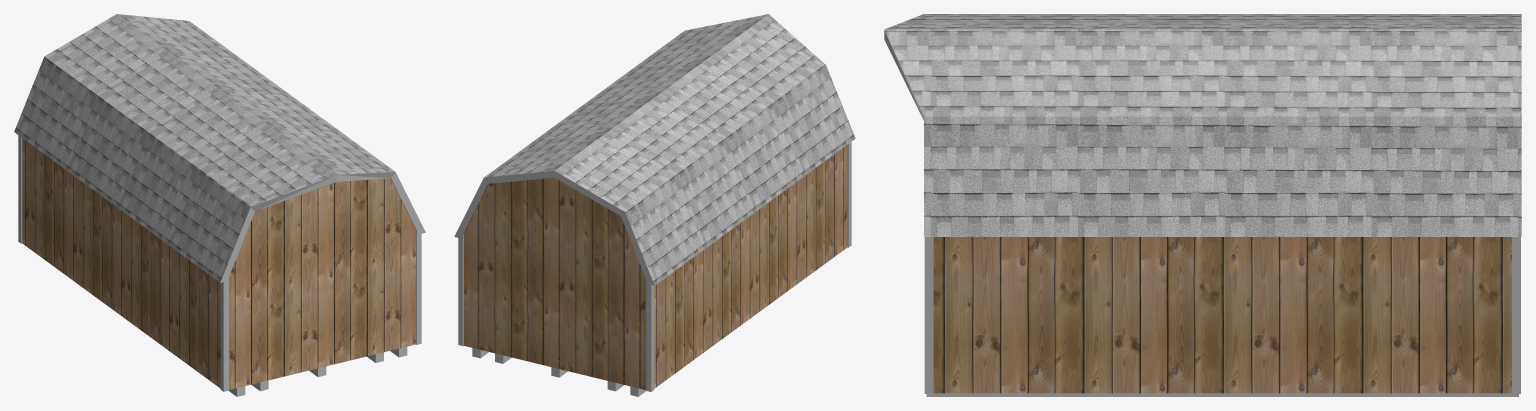
The model's file is Mini Barn Sheds_8x14.obj.
3 views of the same model, side by side, from view 1: azimuth 30°, elevation 25°; view 2: azimuth 150°, elevation 25°; view 3: azimuth 270°, elevation 25° (orthographic). The views are drawn at different scales.
Visible parts, largest first — view 1: Shed, Roof, Trim, Sides, Floor; view 2: Shed, Roof, Trim, Sides, Floor; view 3: Roof, Shed, Trim, Floor.
Part boxes in pixels (x1,y1,x2,y2): Shed: (22,138,418,389); Roof: (14,14,395,282); Trim: (18,135,421,391); Sides: (220,172,425,282); Floor: (229,346,407,396); Shed: (462,145,847,389); Roof: (484,14,855,285); Trim: (458,142,851,391); Sides: (454,171,654,285); Floor: (472,348,646,396); Roof: (884,14,1521,236); Shed: (933,237,1511,393); Trim: (924,237,1520,393); Floor: (926,393,1518,396).
Bounding box in the file's own units: 2.48 × 2.44 × 4.59.
